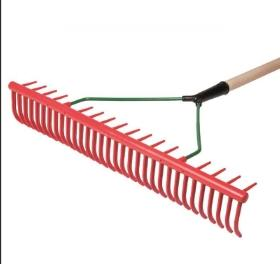RATEAU: (7, 14, 280, 252)
